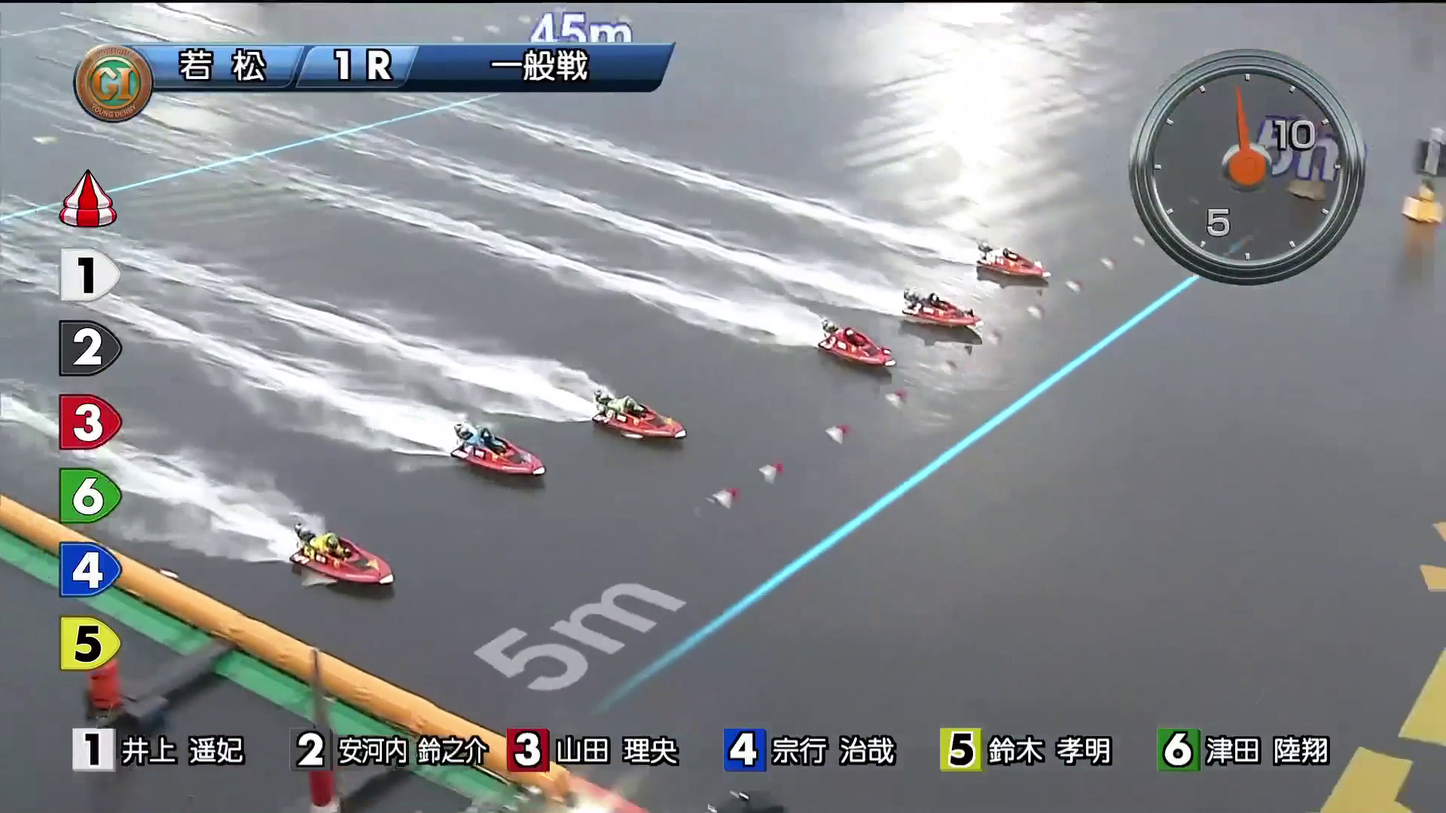１号艇: (937, 233, 1007, 279)
２号艇: (904, 285, 966, 323)
３号艇: (821, 320, 876, 362)
４号艇: (619, 392, 682, 435)
５号艇: (488, 450, 557, 488)
６号艇: (373, 567, 438, 614)
